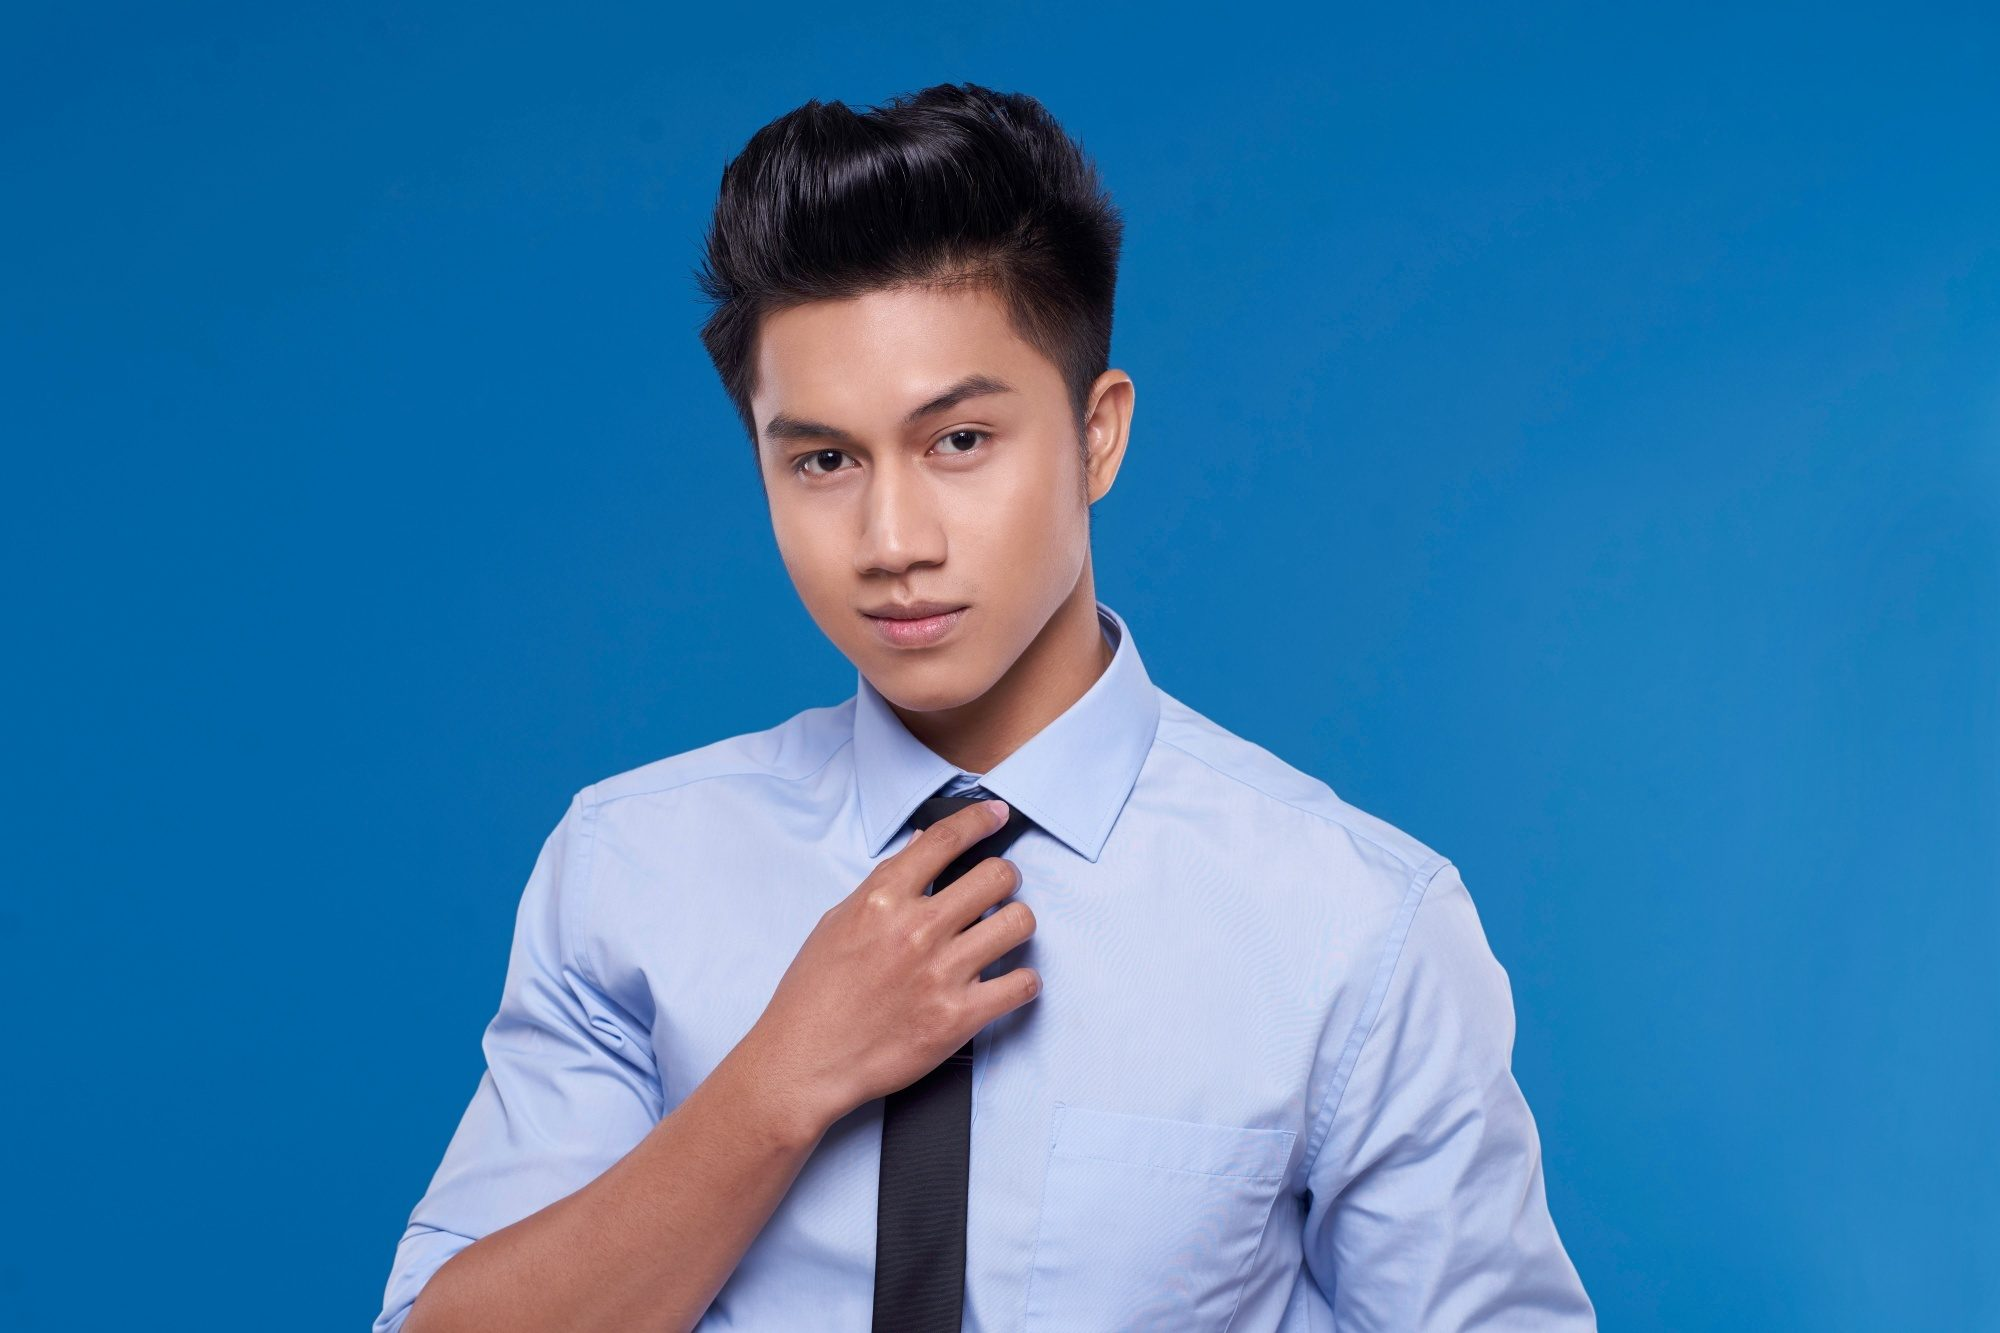Without Helmet: (678, 74, 1148, 742)
